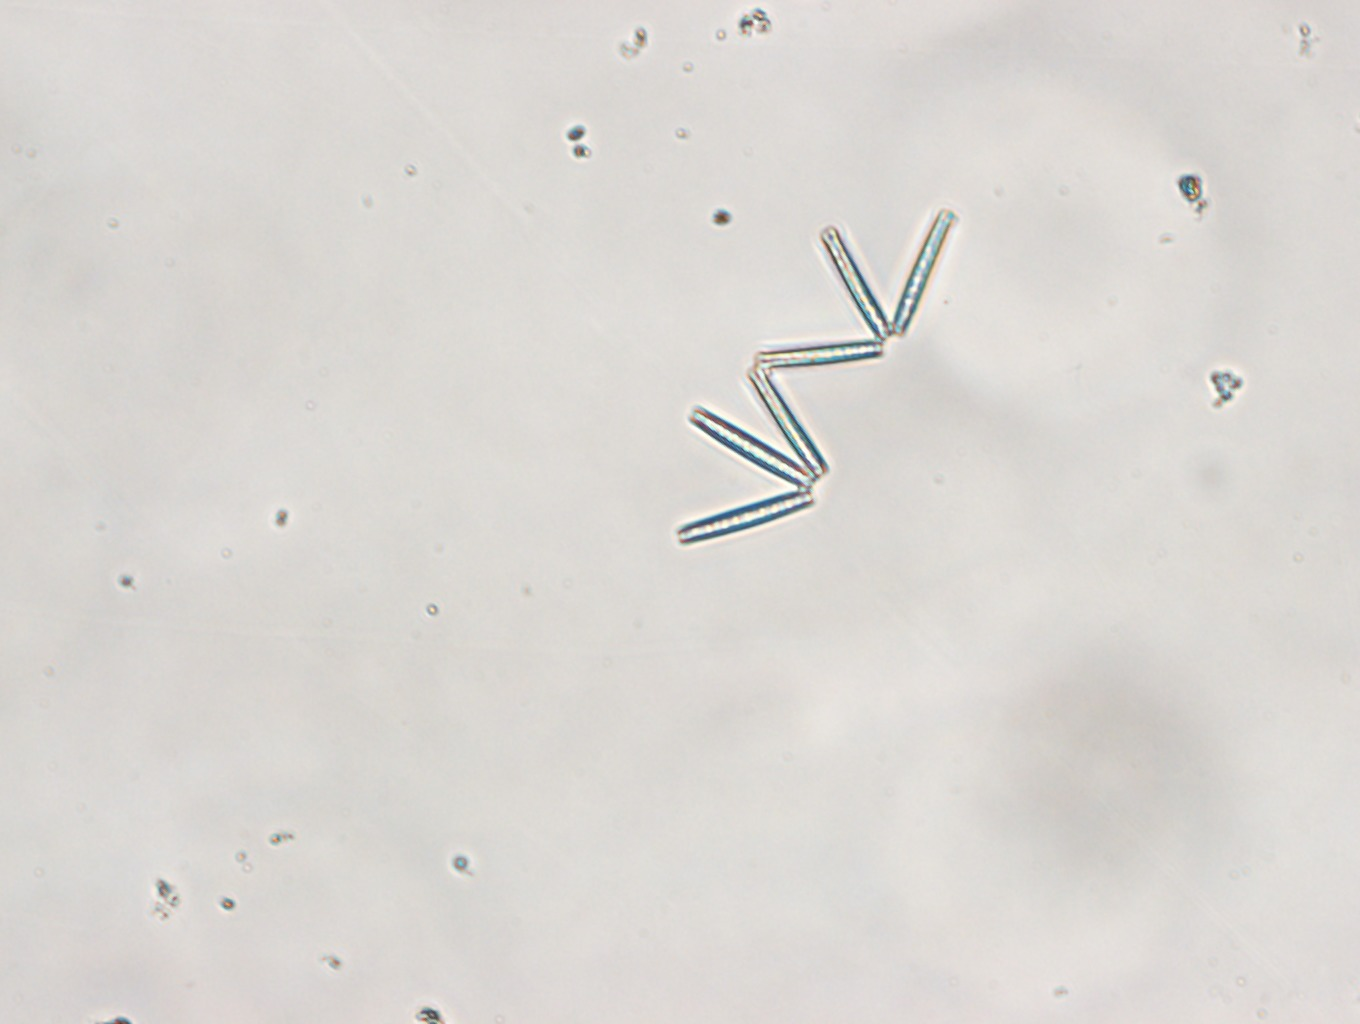thalassionema nitzschioides: (674, 207, 954, 547)
